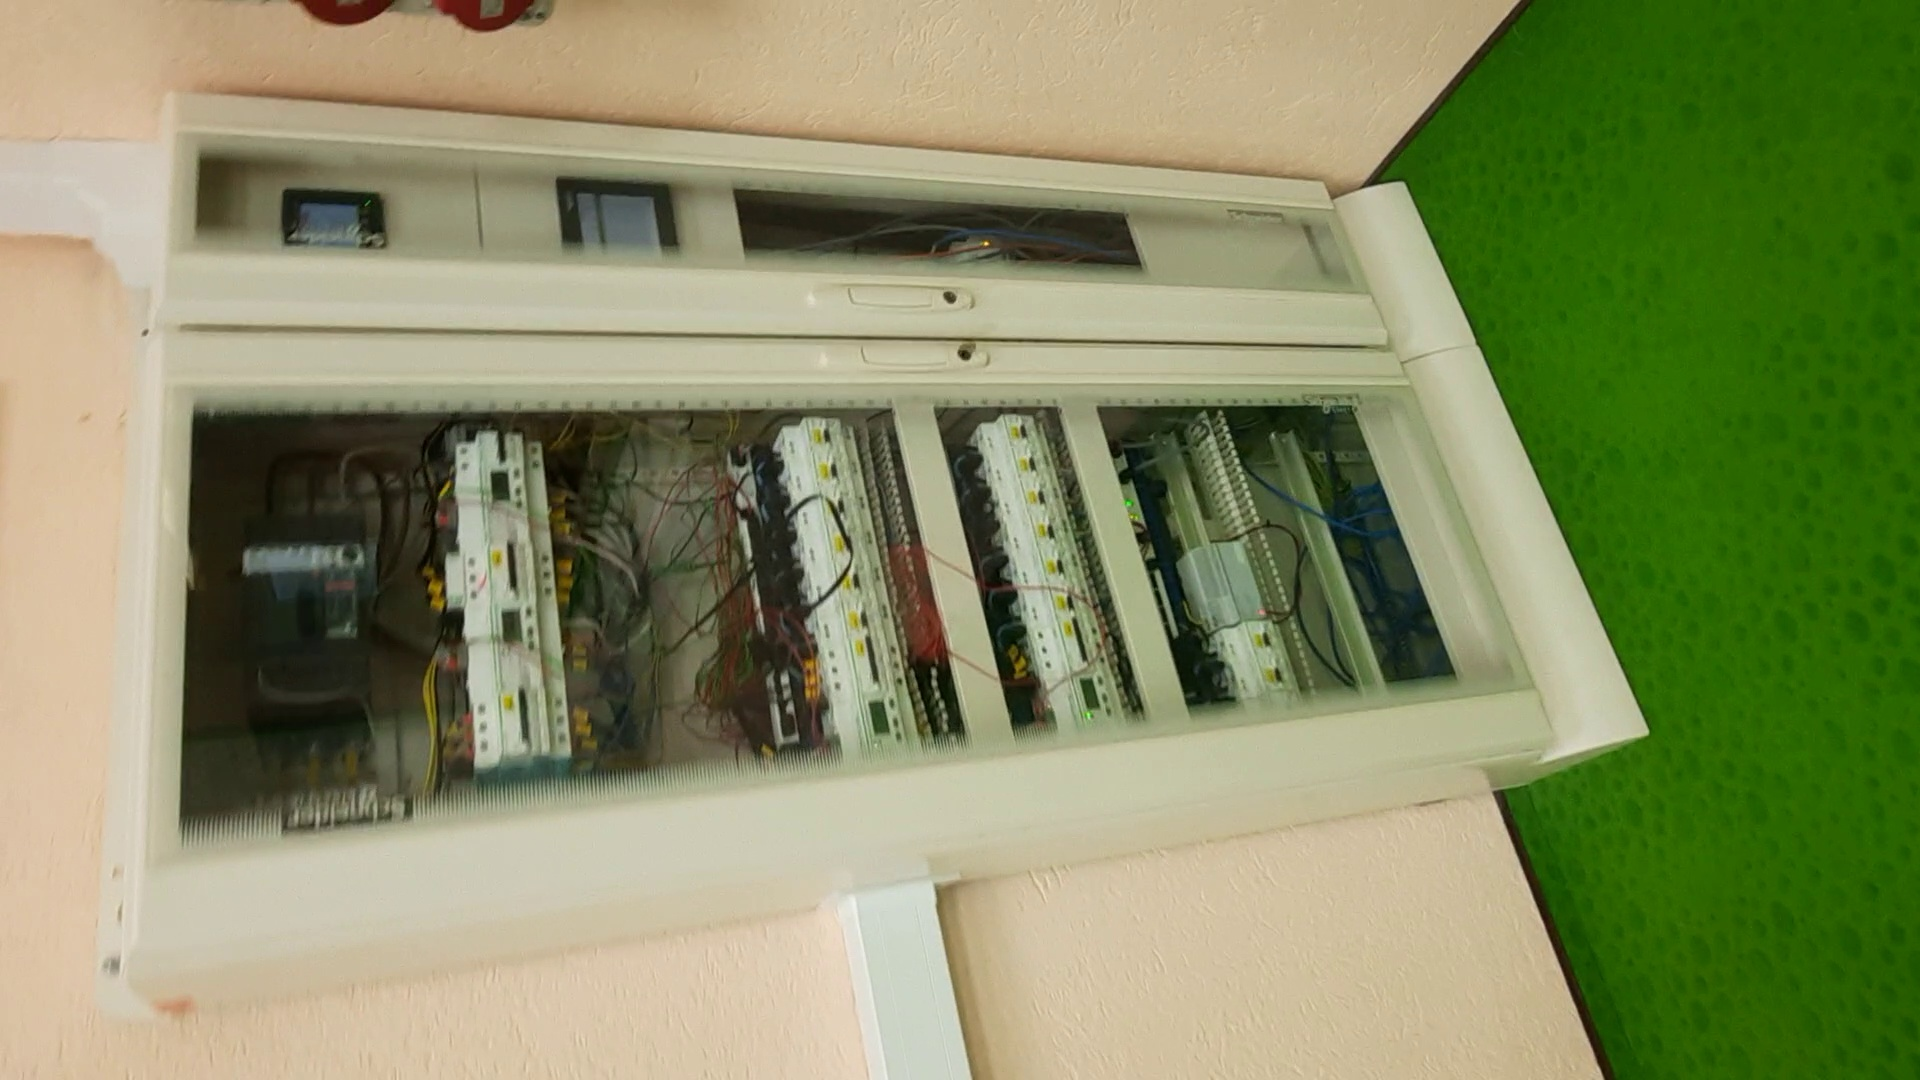stand1: (100, 94, 1648, 1033)
